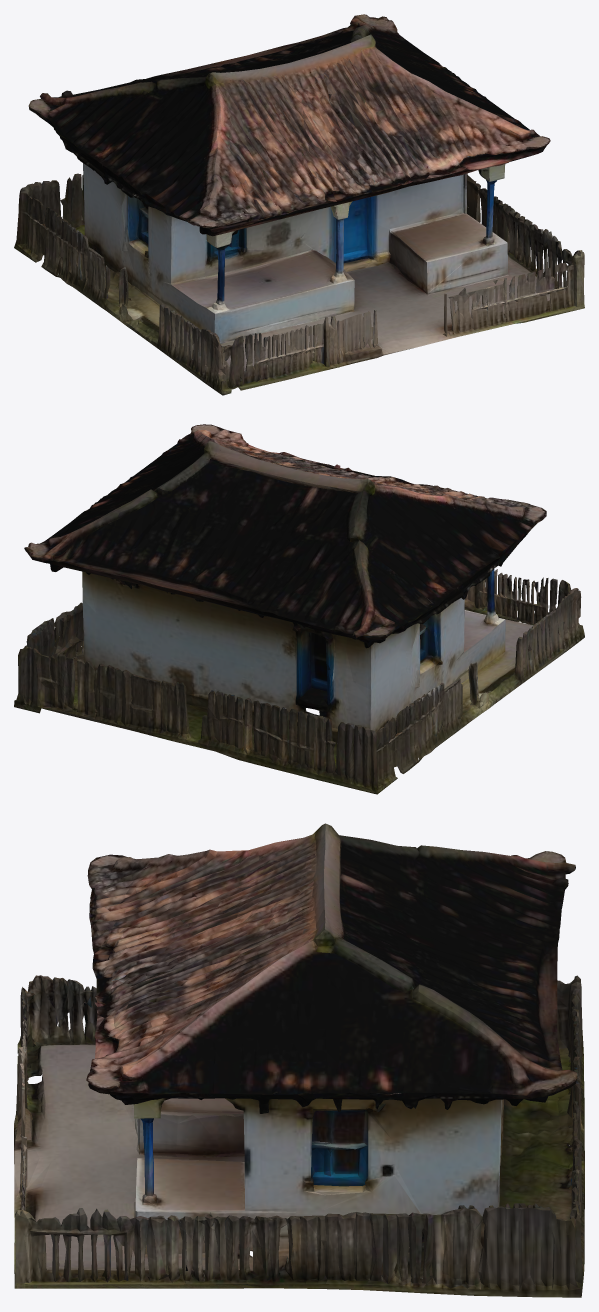
Rendered from house_old.glb.
The picture shows the model from 3 angles, top to bottom: view 1: azimuth 30°, elevation 25°; view 2: azimuth 150°, elevation 25°; view 3: azimuth 270°, elevation 25°; orthographic projection. The views are drawn at different scales.
Visible parts, largest first — view 1: Indian House; view 2: Indian House; view 3: Indian House.
Part boxes in pixels (x1=…): Indian House: x1=14, y1=14, x2=584, y2=395; Indian House: x1=14, y1=424, x2=584, y2=794; Indian House: x1=14, y1=823, x2=584, y2=1297.
Bounding box in the file's own units: 7.32 × 4.26 × 7.31.
Materials: 1 (1 with a texture image).
